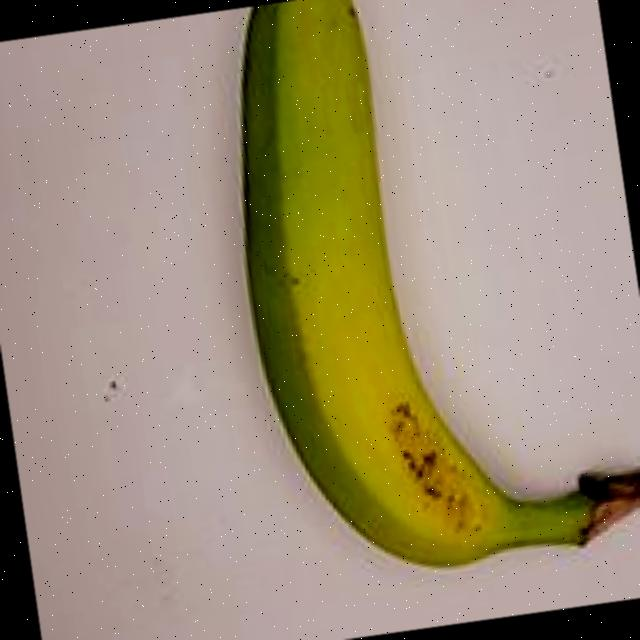Unripe: (149, 0, 640, 638)
